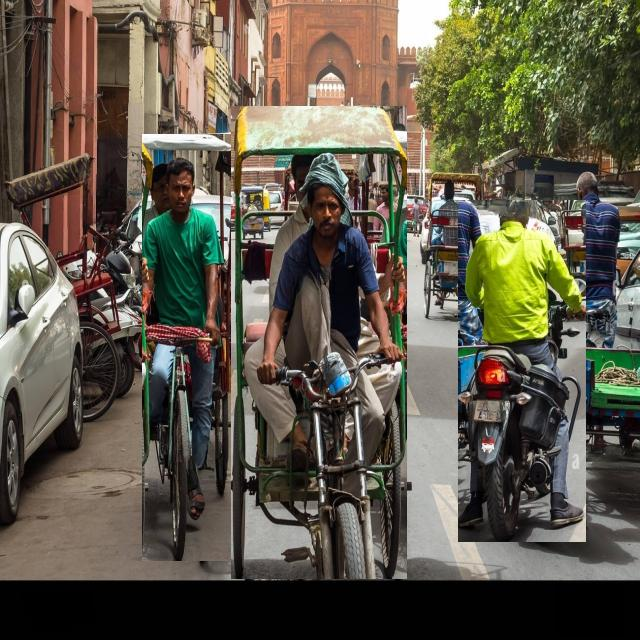bicycle: (231, 107, 406, 579), (142, 134, 239, 561), (421, 172, 482, 315)
car: (0, 223, 82, 524)
motorcycle: (458, 200, 586, 542)
